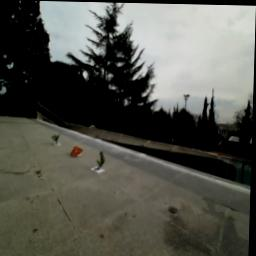herb: (97, 151, 109, 169), (54, 133, 62, 147)
wild: (72, 145, 86, 159)
